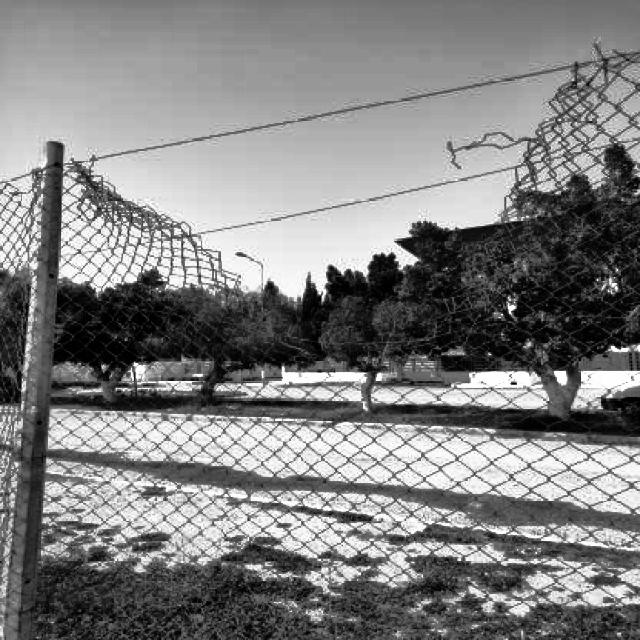anomaly-fence: (38, 55, 640, 380)
